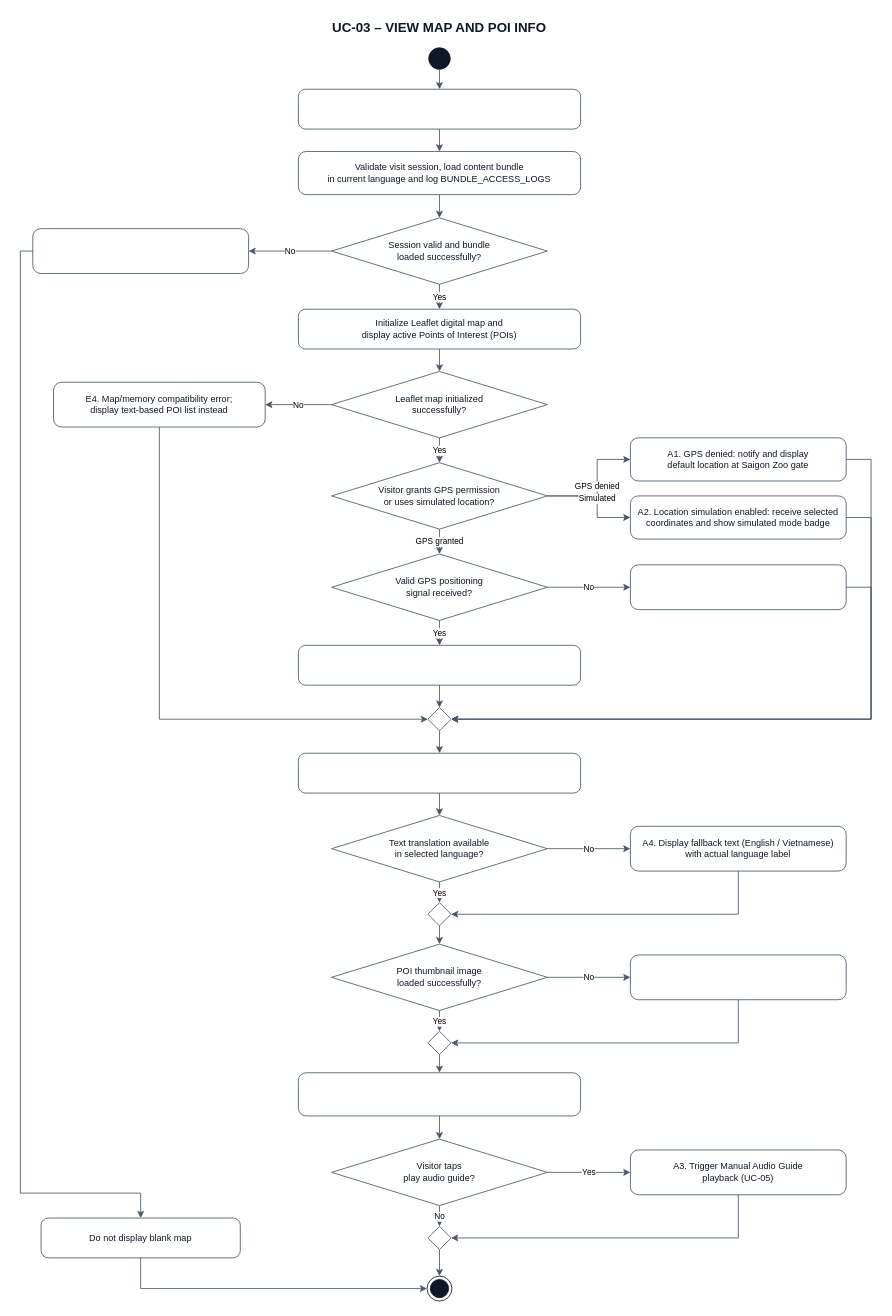
This 892x1316 diagram has some shape labels left out. The shapes that lost their labels are listed below. From the top down, each one's centre as x and y in pixels, then its label:
At (439,108): "Visitor opens map screen on tour interface".
At (140,250): "E1. Notify bundle loading error; prompt to reload tour package".
At (738,587): "E3. GPS signal lost: notify visitor and keep last known position".
At (439,664): "Display visitor's current GPS position and calculate distance to each POI".
At (439,772): "Visitor taps a POI on the map or in the nearby list".
At (738,977): "E2. Thumbnail load failed due to network: display default Saigon Zoo image".
At (439,1094): "Display info card with name, thumbnail, introductory text and audio guide button".
